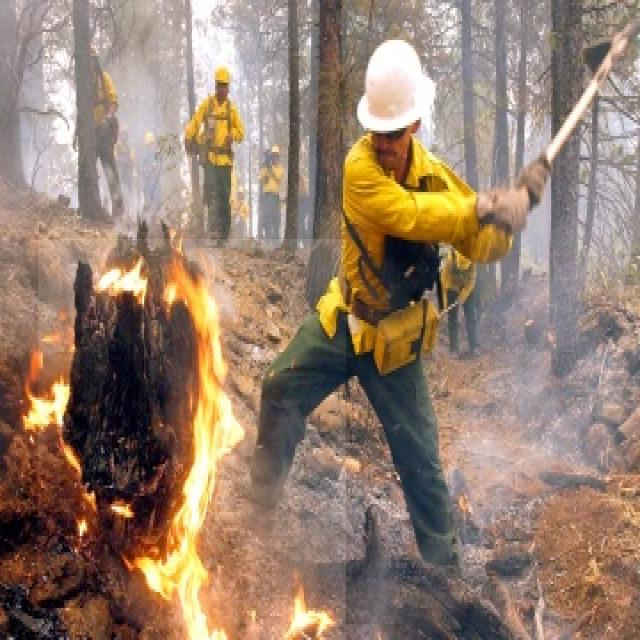Fire: (38, 239, 346, 640)
